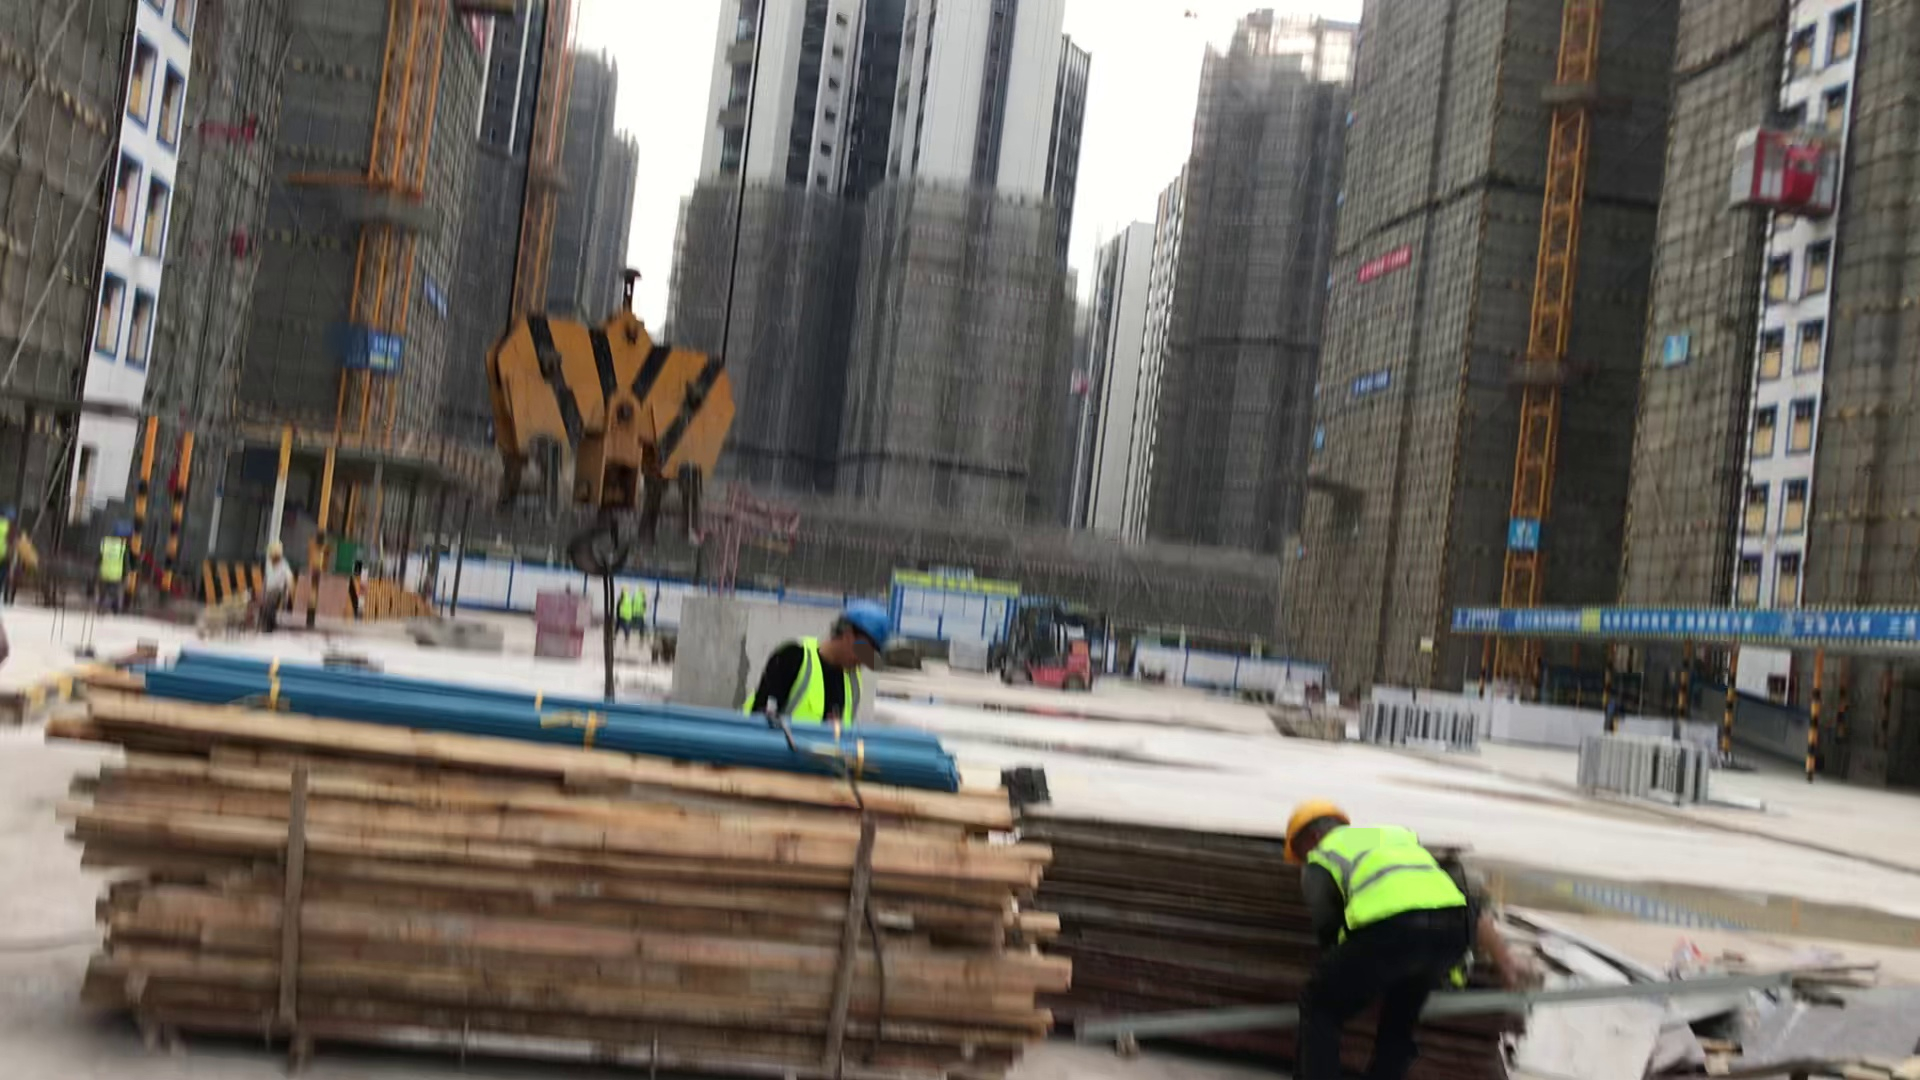board: (1037, 799, 1530, 1035)
helmet: (825, 589, 915, 665), (1281, 794, 1350, 857), (257, 537, 294, 566), (110, 515, 132, 538)
hook: (510, 248, 736, 529)
hopper: (1271, 691, 1354, 744), (404, 616, 508, 655)
person: (1272, 786, 1488, 1080), (775, 575, 891, 755), (253, 530, 292, 654), (89, 516, 134, 616), (609, 578, 631, 643), (633, 585, 650, 643)
slogan: (1482, 595, 1899, 641)
vest: (1314, 837, 1461, 924), (789, 645, 887, 721), (103, 540, 123, 579), (634, 594, 648, 617), (617, 595, 629, 620)
wood: (81, 681, 1044, 1075)
